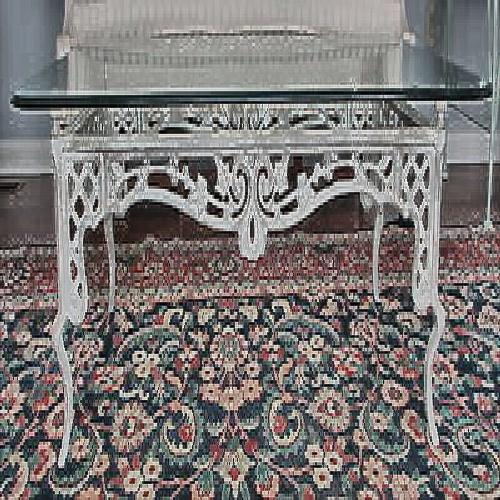table: (26, 32, 474, 443)
